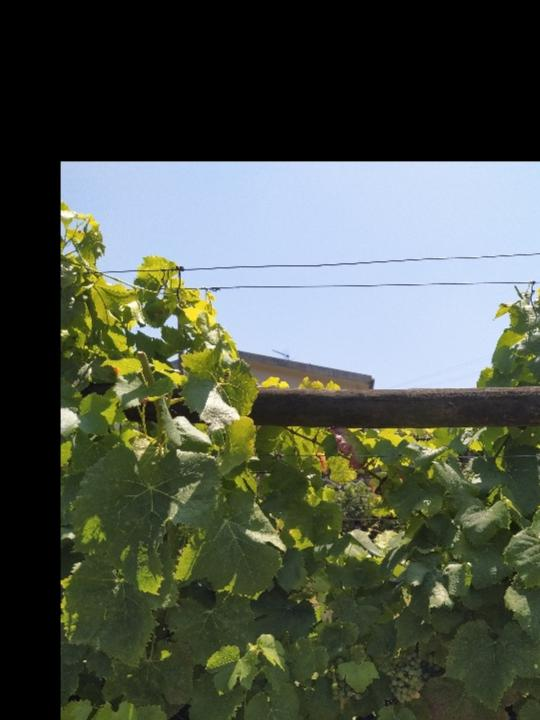grape: (382, 650, 427, 704)
